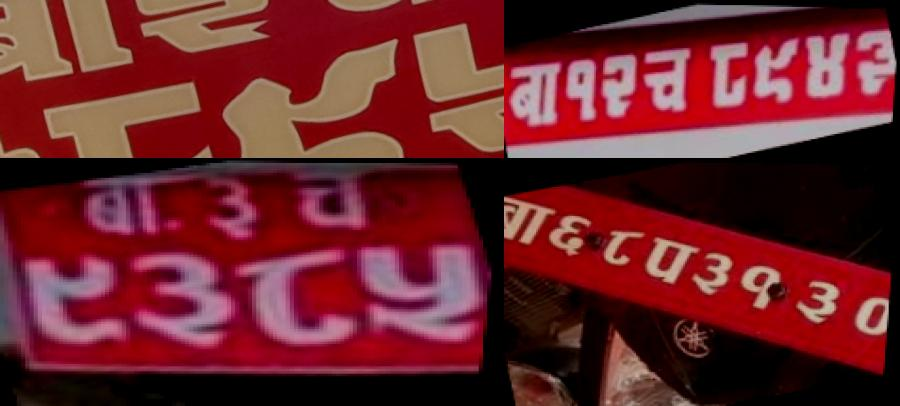0: (0, 0, 143, 109), (848, 289, 892, 338)
1: (558, 55, 607, 123), (736, 259, 794, 313)
2: (592, 50, 646, 121)
3: (115, 240, 264, 358), (183, 160, 296, 248), (844, 21, 899, 94), (790, 273, 852, 328), (685, 246, 743, 295)
4: (793, 25, 859, 101)
5: (336, 224, 498, 354)
6: (402, 0, 504, 158), (120, 0, 286, 66), (543, 210, 597, 255)
8: (220, 237, 390, 358), (698, 34, 759, 107), (597, 222, 650, 266)
9: (11, 242, 161, 366), (265, 0, 469, 35), (745, 31, 810, 104)
ba: (63, 165, 209, 256), (504, 54, 573, 133), (504, 187, 561, 254)
cha: (270, 161, 408, 241), (632, 38, 704, 117)
lu: (210, 32, 431, 158)
pa: (38, 65, 235, 158), (637, 227, 704, 286)
